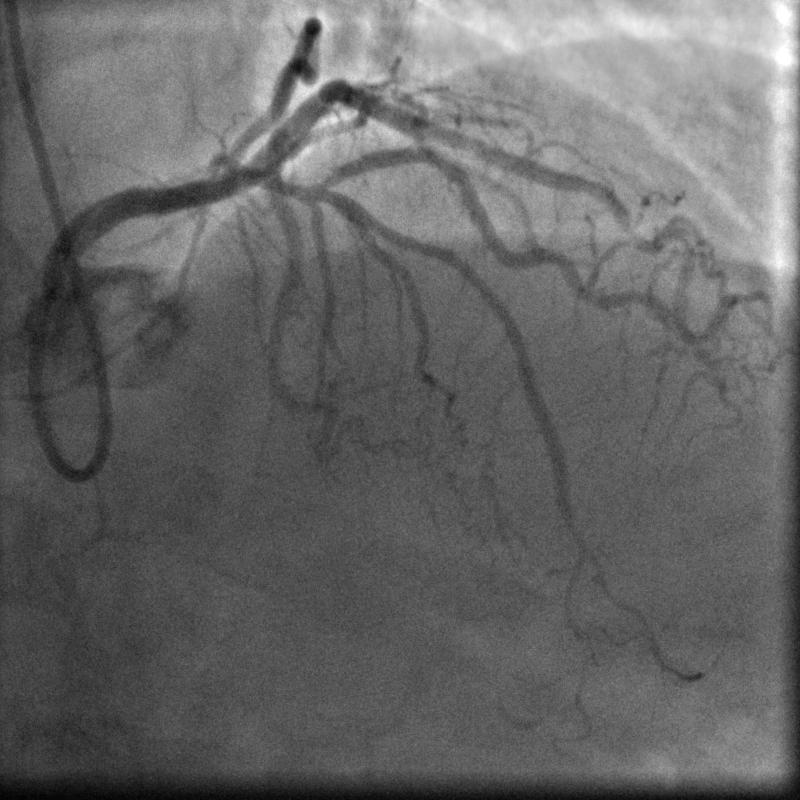Stenosis: (425, 136, 460, 186)
